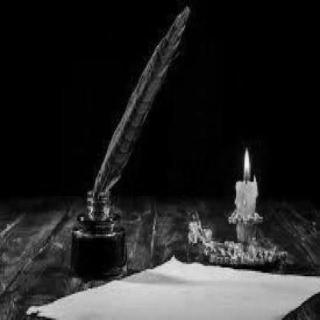Fire: (237, 140, 255, 187)
